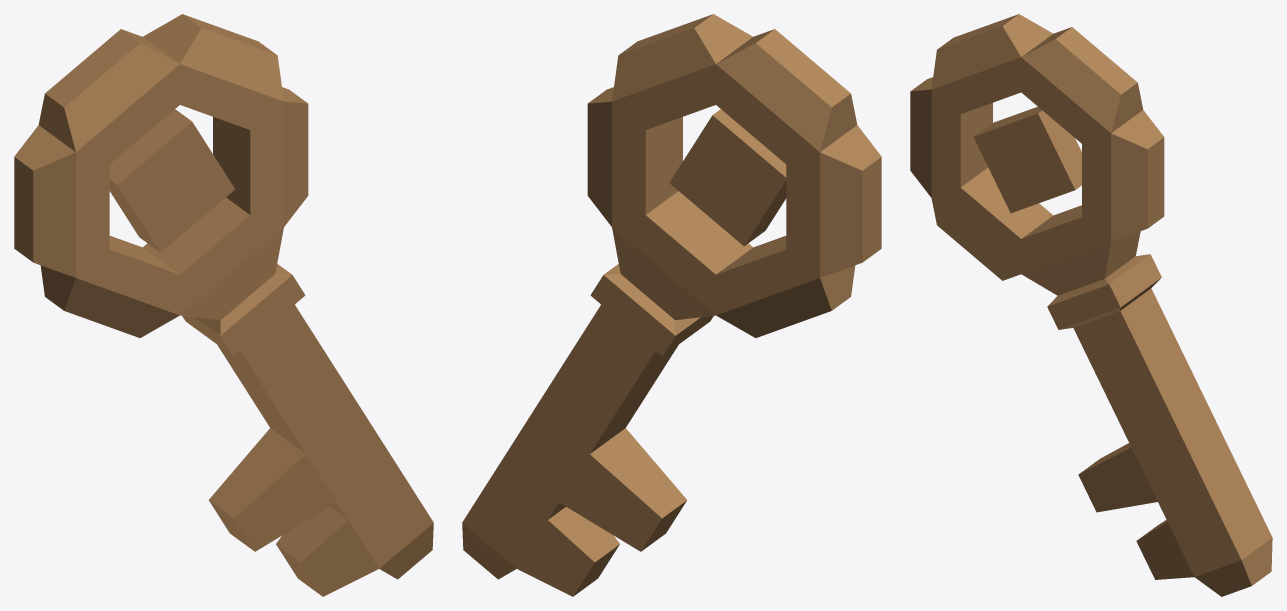
File: towerKey2.fbx
The picture shows the model from 3 angles, left to right: view 1: azimuth 30°, elevation 25°; view 2: azimuth 150°, elevation 25°; view 3: azimuth 330°, elevation 25°; orthographic projection. The views are drawn at different scales.
Parts seen in each view (by area): view 1: towerKey2; view 2: towerKey2; view 3: towerKey2.
Part boxes in pixels (x1=…): towerKey2: x1=14, y1=14, x2=433, y2=596; towerKey2: x1=462, y1=14, x2=881, y2=596; towerKey2: x1=910, y1=14, x2=1272, y2=596.
Bounding box in the file's own units: 0.6671 × 0.9585 × 0.1391.
